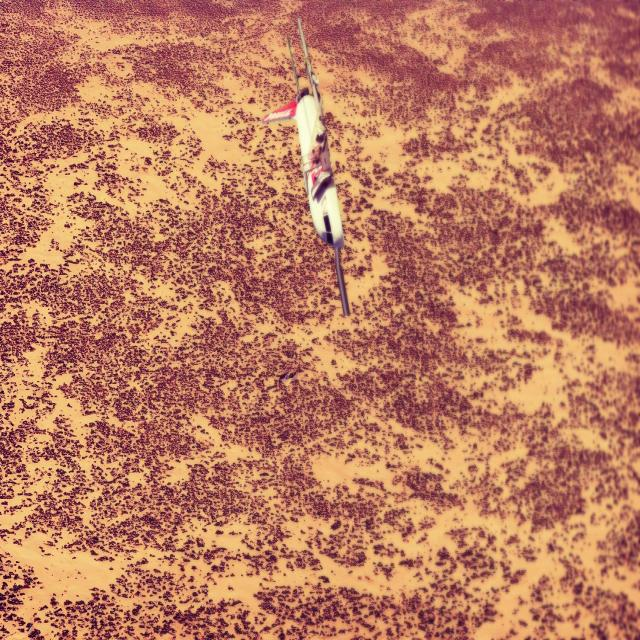airplane: (261, 16, 351, 318)
